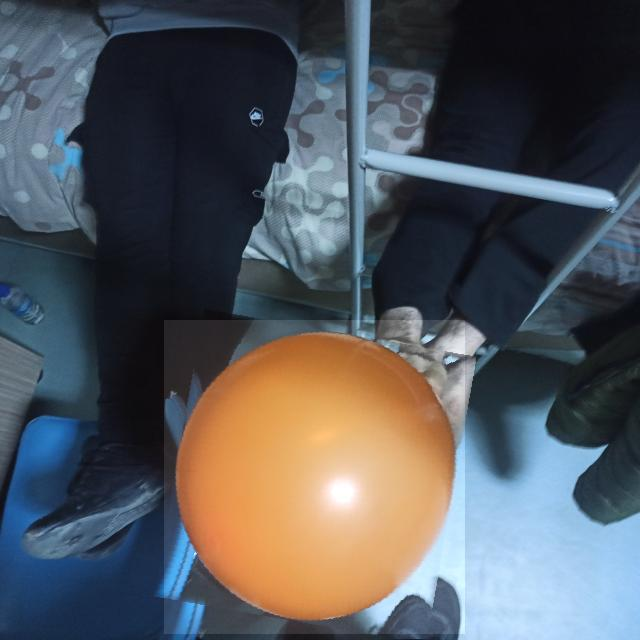balloon: (164, 320, 465, 634)
